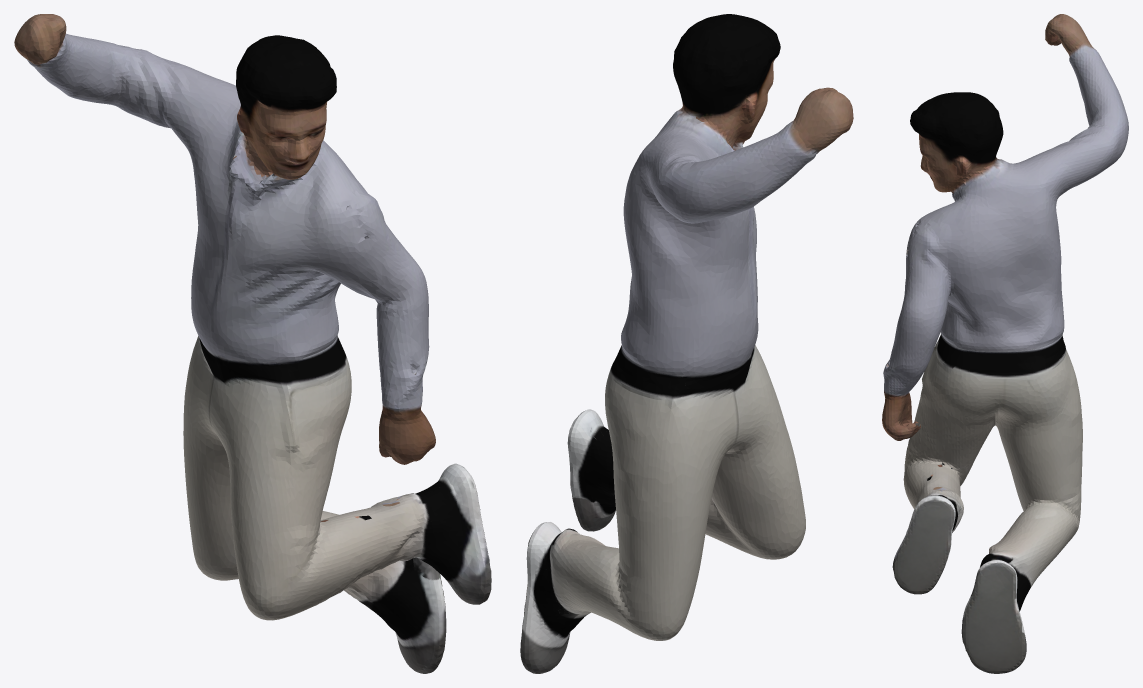
File: jump_1.glb
The picture shows the model from 3 angles, left to right: view 1: azimuth 30°, elevation 25°; view 2: azimuth 150°, elevation 25°; view 3: azimuth 270°, elevation 25°; orthographic projection. The views are drawn at different scales.
Parts seen in each view (by area): view 1: tmpunp__xm8.ply; view 2: tmpunp__xm8.ply; view 3: tmpunp__xm8.ply.
Part boxes in pixels (x1,y1,x2,y2): tmpunp__xm8.ply: (14, 14, 491, 673); tmpunp__xm8.ply: (520, 14, 853, 673); tmpunp__xm8.ply: (882, 14, 1128, 673).
Size of the model in its own units: 0.8464 by 1.57 by 0.6568.
1 material, 1 textured.
